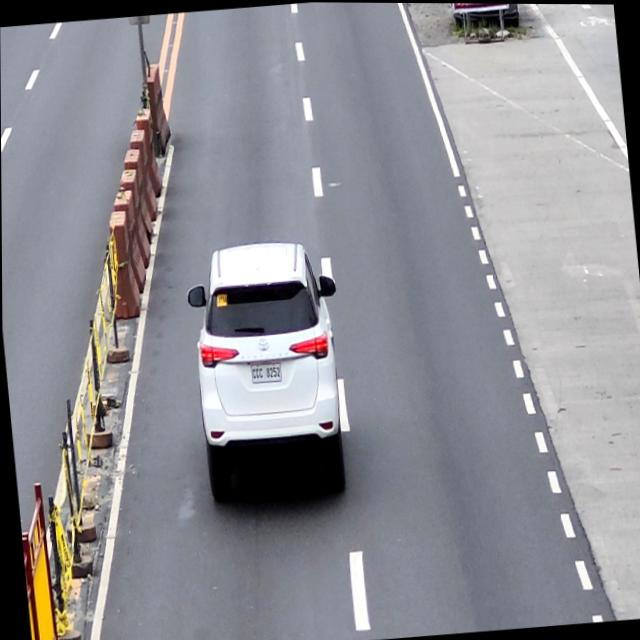Car: (183, 236, 348, 511)
License-Plate: (246, 355, 282, 387)
